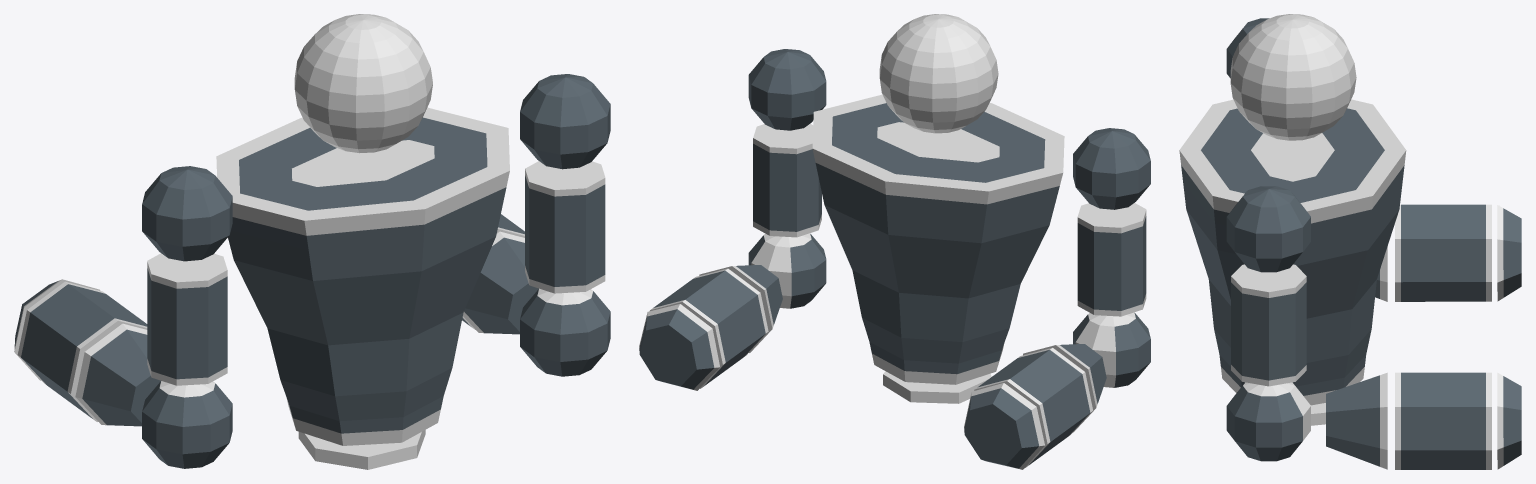
File: RobotEnemy.fbx
3 views of the same model, side by side, from view 1: azimuth 30°, elevation 25°; view 2: azimuth 150°, elevation 25°; view 3: azimuth 270°, elevation 25° (orthographic). The views are drawn at different scales.
Visible parts, largest first — view 1: Robot Body, Head, Robot Arm, Robot Shoulder, Connector, canon connect, Robot Body.001, Robot Body.002, Canon Body, Robot Arm.001, Hover Leg, Robot Body.003 (+3 smaller); view 2: Robot Body, Head, Robot Arm, Robot Shoulder, Canon Body, canon glowing, Robot Body.001, Robot Body.002, Connector, Robot Arm.001, Connector.001, canon connect (+6 smaller); view 3: Robot Body, Canon Body, Head, Robot Arm, Robot Shoulder, Robot Body.002, Robot Body.001, Connector, canon connect, canon glowing, Robot Arm.001, canon glowing.001 (+5 smaller).
Boxes of the visible parts, x1,y1,x2,y2 form: Robot Body: (228,117,506,433); Head: (294,14,432,153); Robot Arm: (147,175,605,379); Robot Shoulder: (142,74,610,261); Connector: (142,289,610,468); canon connect: (82,237,538,426); Robot Body.001: (232,140,509,235); Robot Body.002: (216,107,509,220); Canon Body: (21,214,524,418); Robot Arm.001: (147,161,605,385); Hover Leg: (298,430,425,469); Robot Body.003: (286,398,440,445); Robot Body: (815,103,1059,374); Head: (879,14,998,133); Robot Arm: (753,143,1146,310); Robot Shoulder: (748,49,1150,209); Canon Body: (653,270,1090,464); canon glowing: (639,309,1038,468); Robot Body.001: (812,122,1062,204); Robot Body.002: (812,94,1064,191); Connector: (748,234,1150,387); Robot Arm.001: (753,123,1146,316); Connector.001: (751,233,1135,387); canon connect: (736,265,1106,403); Robot Body: (1181,108,1404,395); Canon Body: (1401,204,1485,469); Head: (1230,14,1356,140); Robot Arm: (1231,282,1306,380); Robot Shoulder: (1226,18,1310,272); Robot Body.002: (1179,99,1405,211); Robot Body.001: (1179,133,1406,223); Connector: (1226,383,1302,461); canon connect: (1326,270,1379,466); canon glowing: (1503,208,1521,465); Robot Arm.001: (1231,264,1306,386); canon glowing.001: (1497,205,1503,469).
Size of the model in its own units: 234 by 200 by 161.
